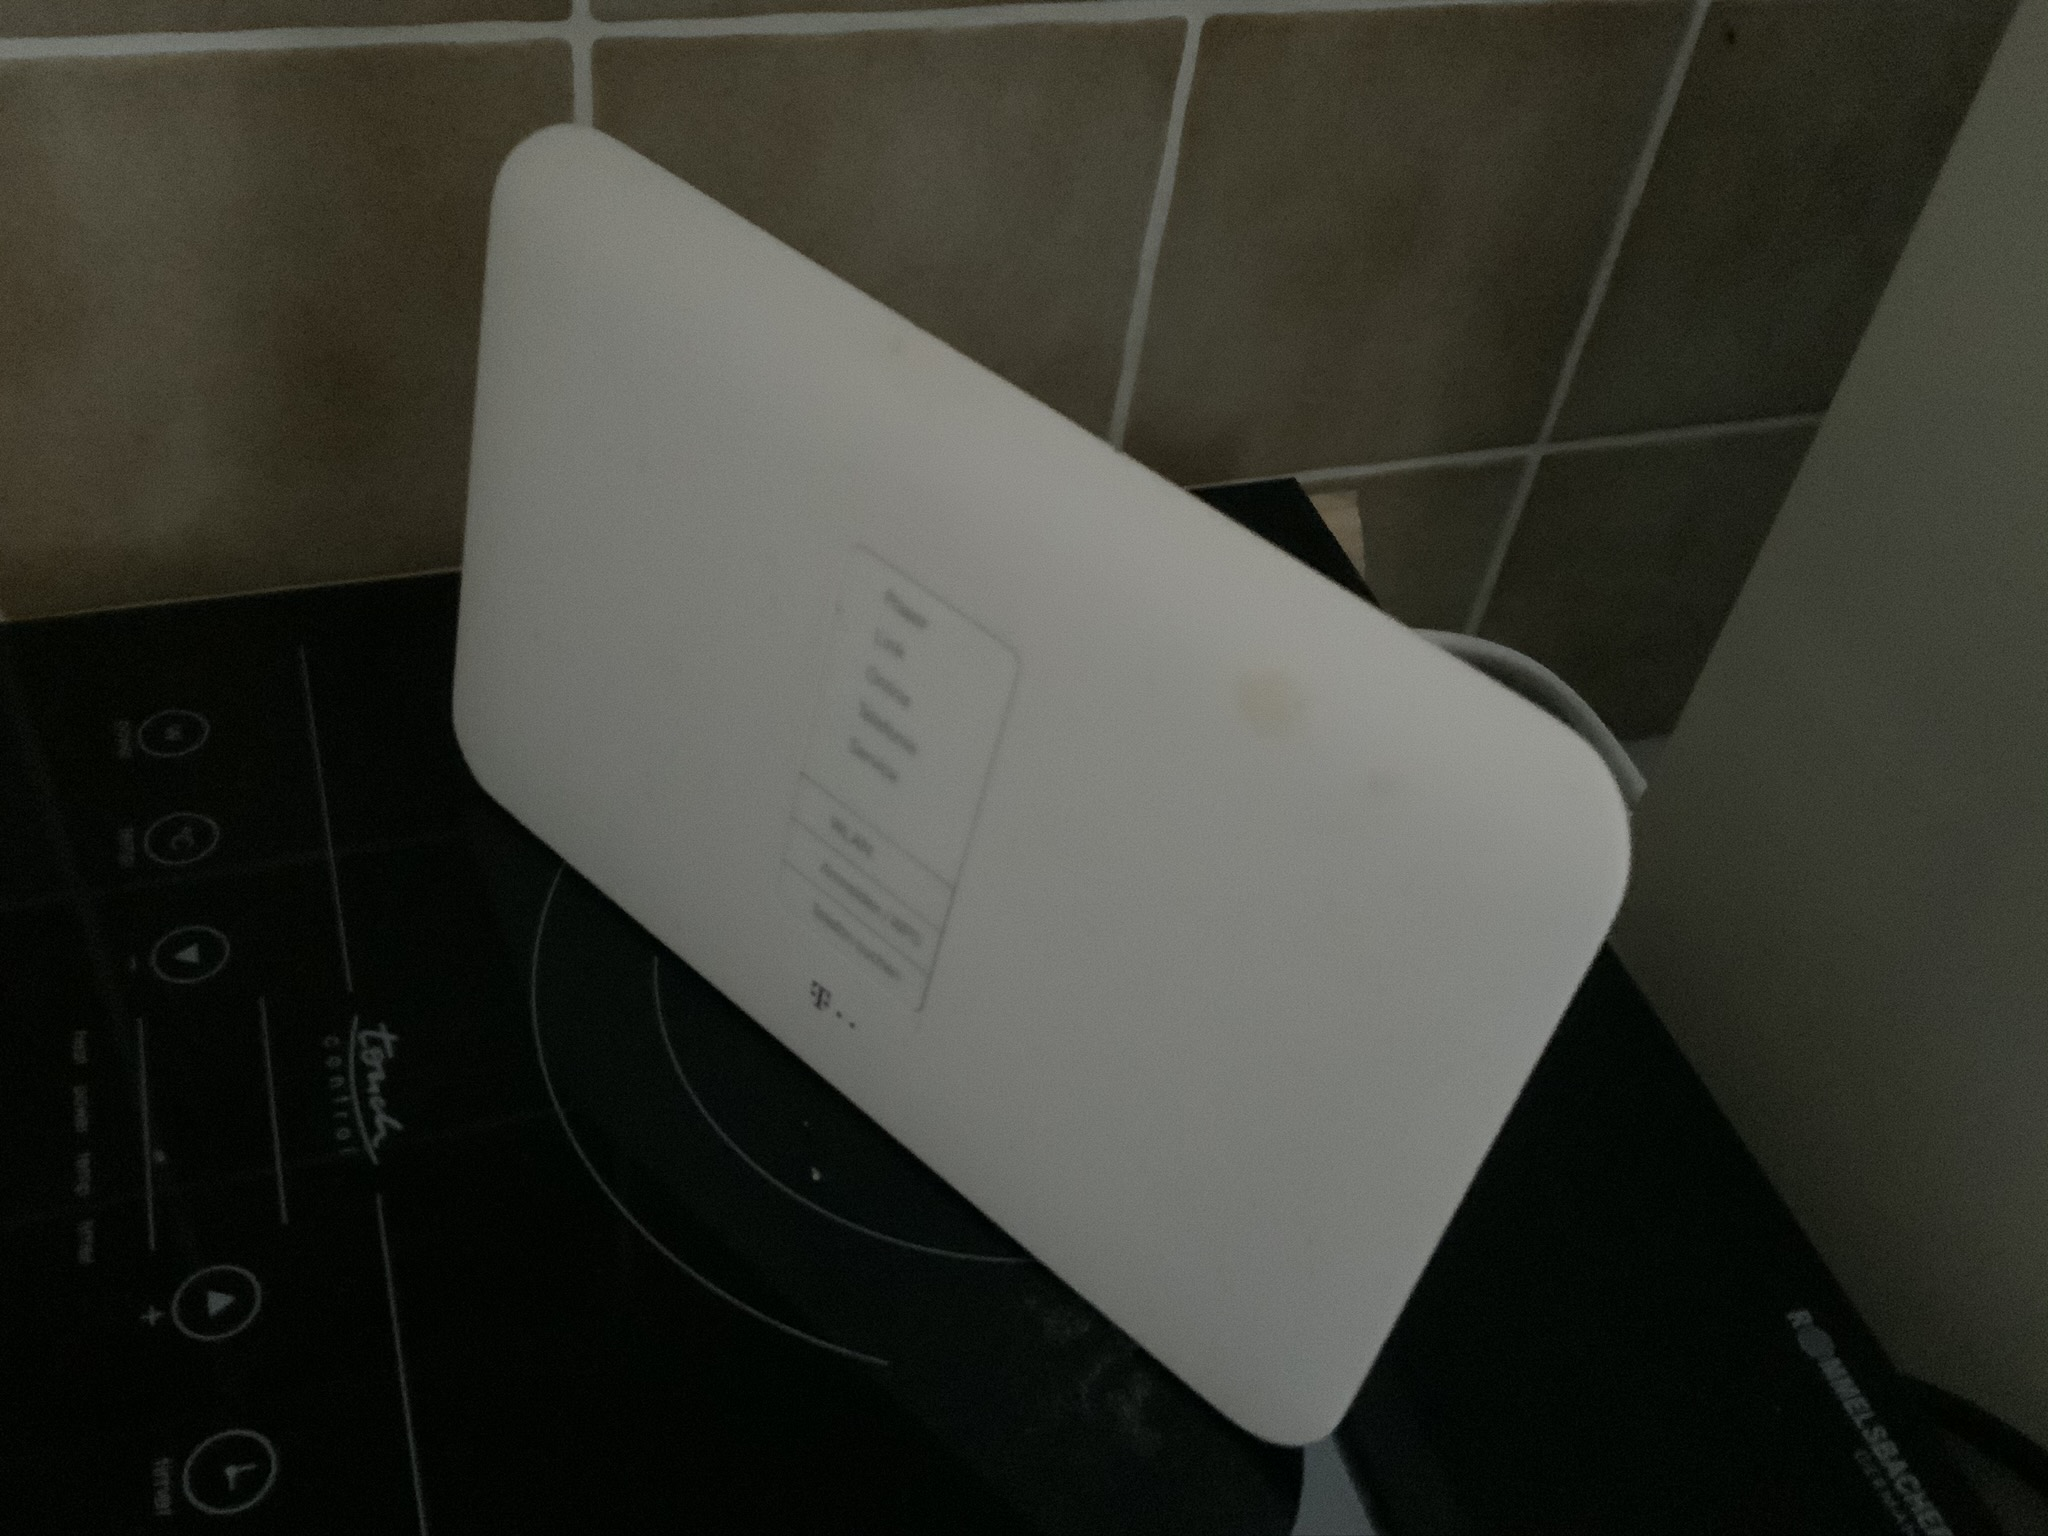router: (439, 119, 1634, 1450)
